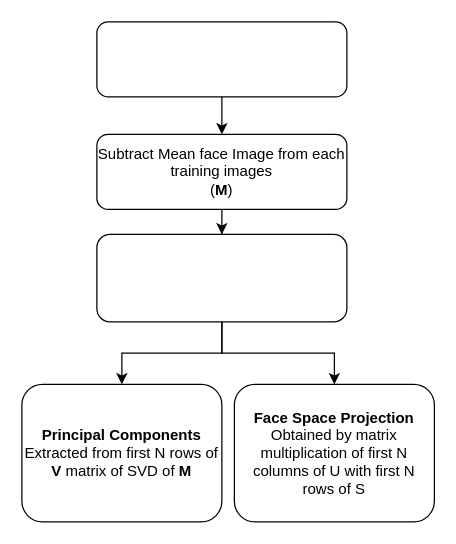
Some shapes in this 456 by 544 pixel diagram are drawn without their labels. Each missing label, with the centre of its shape:
Input Training Samples (Images converted to 1D arrays): the point at 221,59
Singular Value Decomposition of mean subtracted images ( M = USV T ): the point at 221,277
